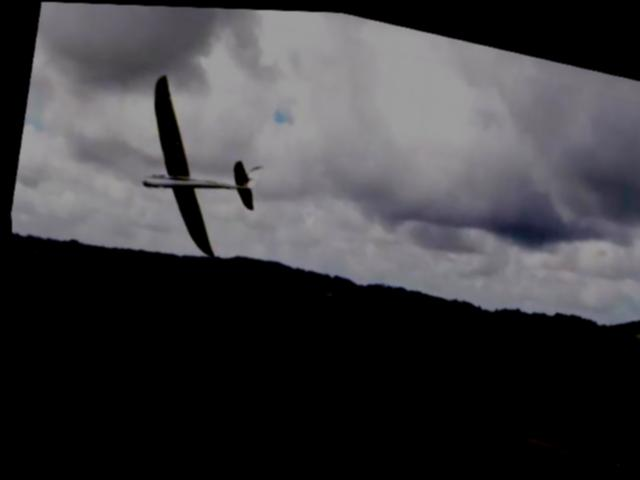iha: (106, 64, 276, 263)
